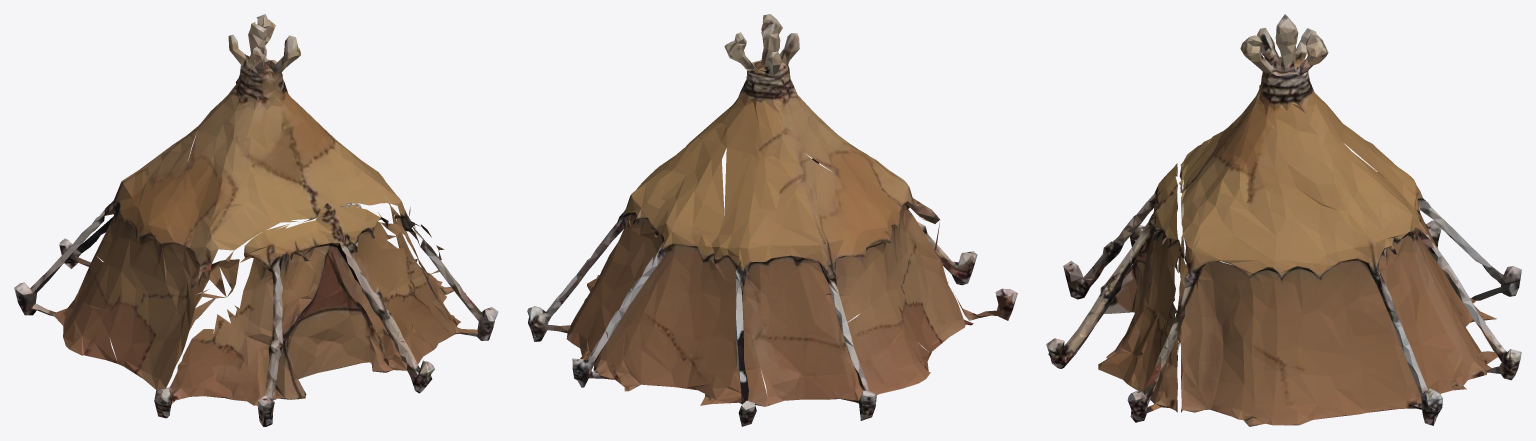
Rendered from tent_hide_a.glb.
The picture shows the model from 3 angles, left to right: view 1: azimuth 30°, elevation 25°; view 2: azimuth 150°, elevation 25°; view 3: azimuth 270°, elevation 25°; orthographic projection. The views are drawn at different scales.
Parts seen in each view (by area): view 1: geometry_0; view 2: geometry_0; view 3: geometry_0.
Part boxes in pixels (x1,y1,x2,y2): geometry_0: [14, 14, 498, 426]; geometry_0: [527, 14, 1017, 426]; geometry_0: [1046, 14, 1521, 426].
Bounding box in the file's own units: 2.55 × 2.14 × 2.8.
Materials: 1 (1 with a texture image).
